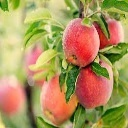apple: (62, 17, 101, 69)
